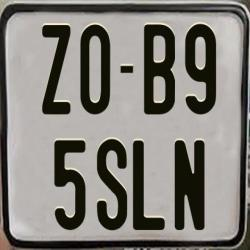0: (80, 24, 110, 116)
5: (53, 138, 87, 229)
9: (184, 23, 218, 117)
B: (144, 23, 176, 116)
L: (132, 139, 165, 228)
N: (174, 139, 205, 230)
S: (96, 138, 128, 231)
Z: (41, 23, 70, 114)
